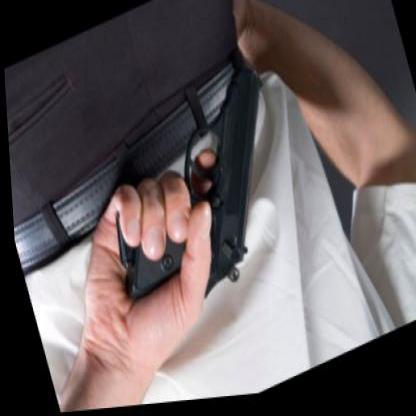pistol: (78, 58, 311, 340)
